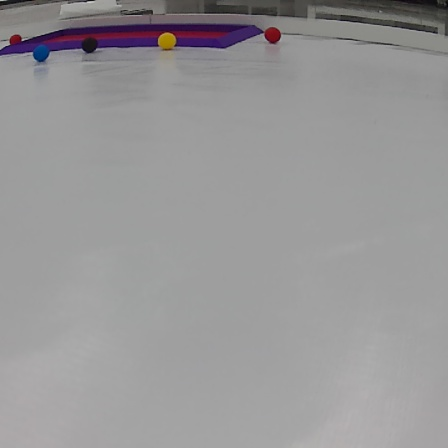black: (82, 37, 97, 54)
blue: (35, 46, 51, 60)
red: (263, 25, 281, 43), (9, 34, 21, 43)
red_aim: (0, 22, 260, 49)
yellow: (158, 31, 178, 50)
